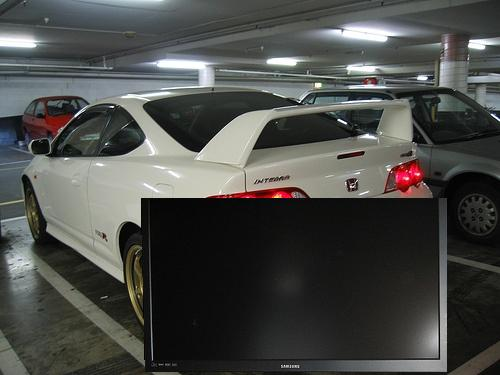tampered: (142, 199, 447, 372)
